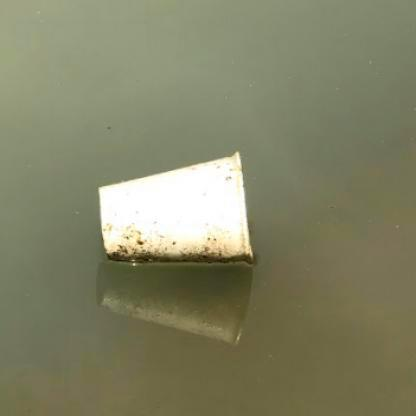Plastic: (95, 147, 259, 270)
